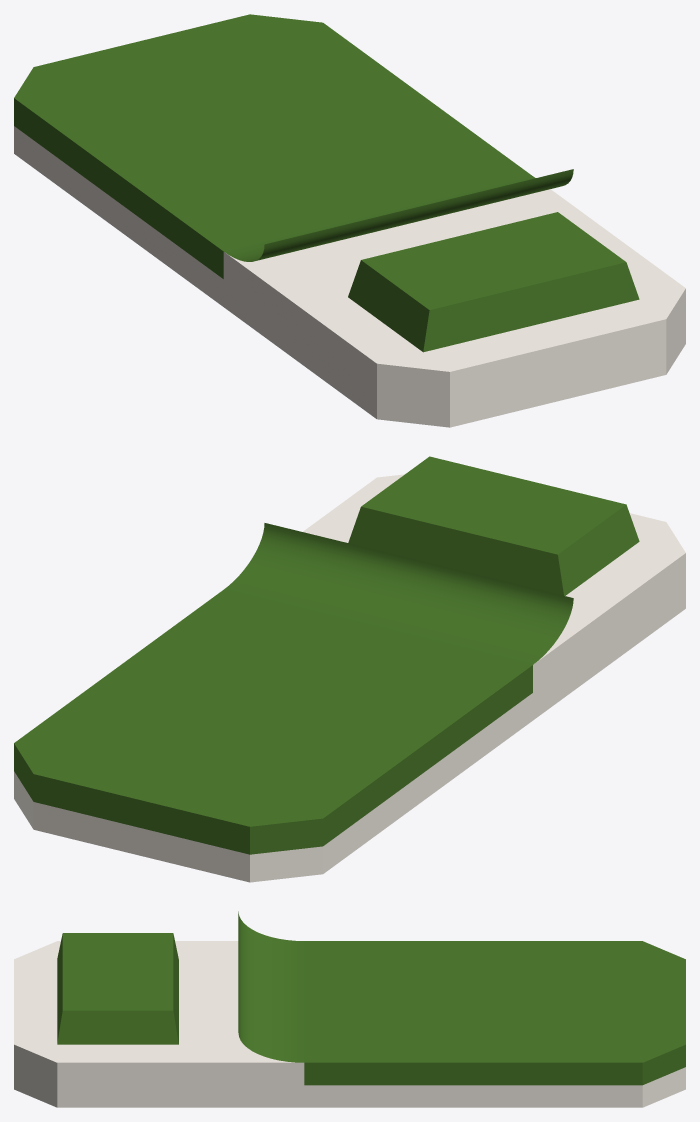
Rendered from bed_floor.glb.
3 renders of one model, top to bottom at view 1: azimuth 30°, elevation 25°; view 2: azimuth 150°, elevation 25°; view 3: azimuth 270°, elevation 25°, orthographic. The views are drawn at different scales.
Visible parts, largest first — view 1: bed_floor; view 2: bed_floor; view 3: bed_floor.
Boxes of the visible parts, box(x1,y1,x2,y2) form: bed_floor: box(14, 14, 685, 427); bed_floor: box(14, 456, 685, 882); bed_floor: box(14, 911, 685, 1107).
Bounding box in the file's own units: 0.3203 × 0.0921 × 0.7473.
